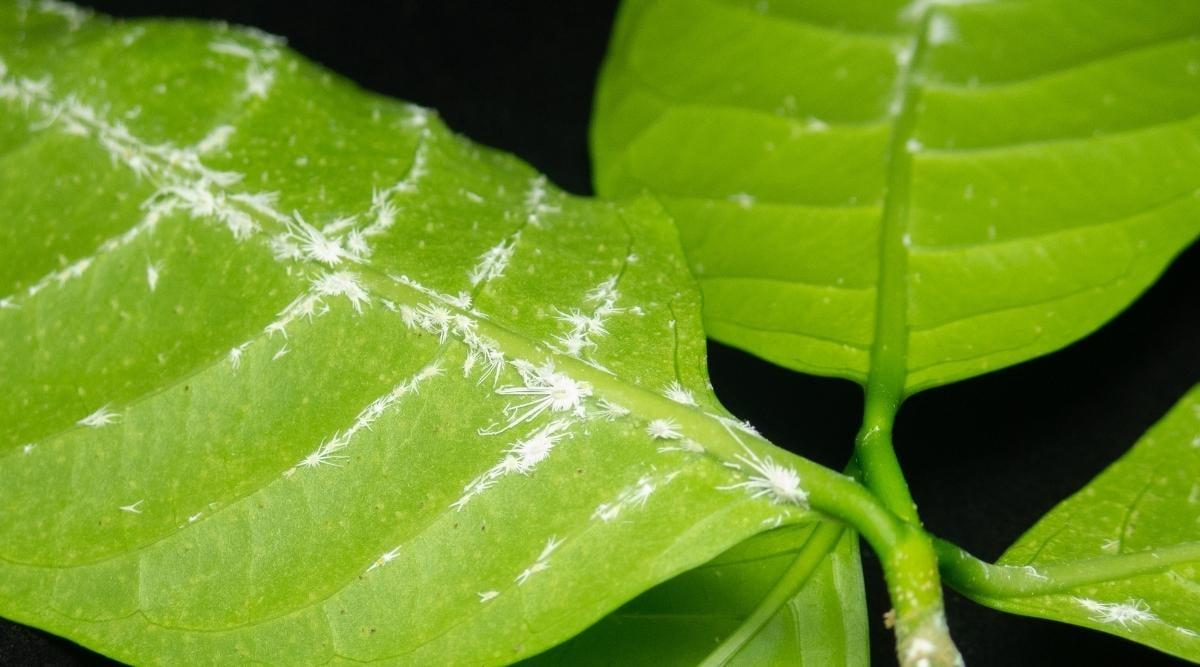pseudococcidae: (11, 12, 822, 599)
